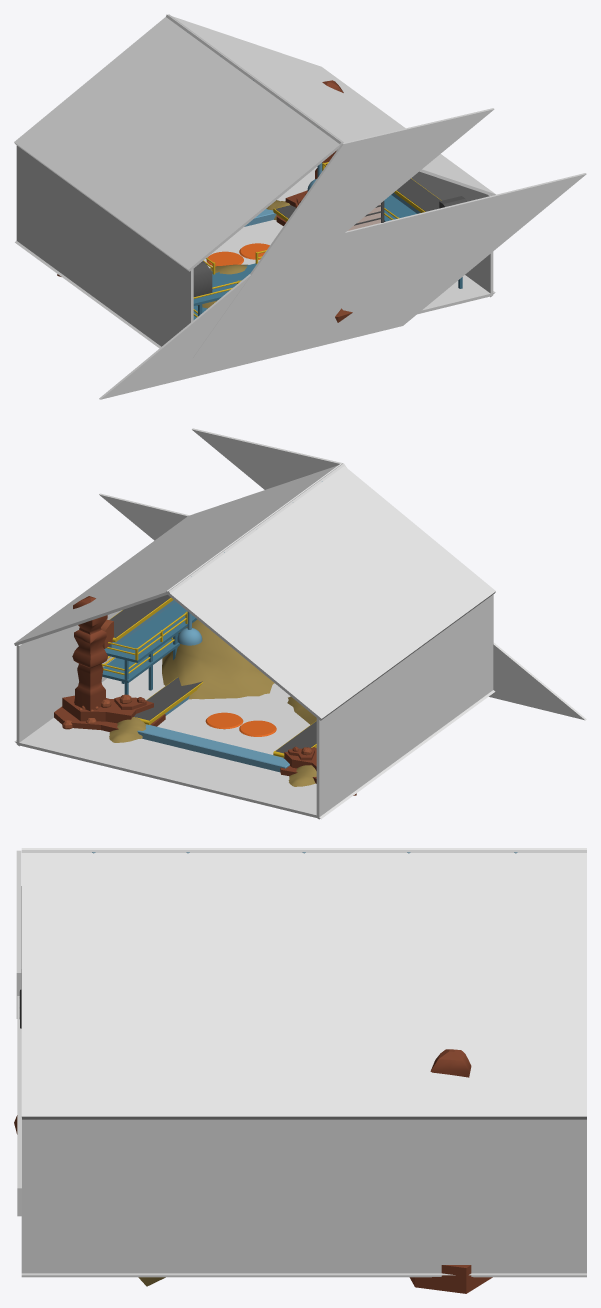
Rendered from Factory_Level_2.1.fbx.
The picture shows the model from 3 angles, top to bottom: view 1: azimuth 30°, elevation 25°; view 2: azimuth 150°, elevation 25°; view 3: azimuth 270°, elevation 25°; orthographic projection. The views are drawn at different scales.
Visible parts, largest first — view 1: RoofRight, BackWall, RightWall, BackTirangle, RoofLEft, Floor, Left_Wall, pCube4, Output; view 2: RoofRight, RightWall, Floor, RoofLEft, Left_Wall, SandRight, BackWall, BackTirangle, polySurface59, pCube4 (×3), polySurface25, pCube14 (+6 smaller); view 3: RoofLEft, Left_Wall, RoofRight, Floor, polySurface56, BackWall, BackTirangle, polySurface59.
Boxes of the visible parts, x1,y1,x2,y2 form: RoofRight: (14,14,343,271); BackWall: (99,173,586,399); RightWall: (16,145,193,346); BackTirangle: (192,108,494,358); RoofLEft: (166,14,495,195); Floor: (15,167,495,348); Left_Wall: (317,166,493,297); pCube4: (396,178,441,211); Output: (193,261,212,297); RoofRight: (166,463,495,720); RightWall: (316,594,493,819); Floor: (14,658,495,818); RoofLEft: (14,463,344,645); Left_Wall: (16,610,121,746); SandRight: (162,619,274,699); BackWall: (99,493,586,720); BackTirangle: (191,428,346,489); polySurface59: (72,596,107,710); pCube4 (×3): (109,595,316,753); polySurface25: (137,724,289,772); pCube14: (104,616,187,662); RoofLEft: (21,848,586,1119); Left_Wall: (21,1119,586,1277); RoofRight: (21,850,586,852); Floor: (21,1273,586,1275); polySurface56: (409,1265,492,1293); BackWall: (17,996,21,1216); BackTirangle: (16,850,21,1018); polySurface59: (430,1049,471,1077).
Size of the model in its own units: 49.01 by 21.01 by 30.82.
